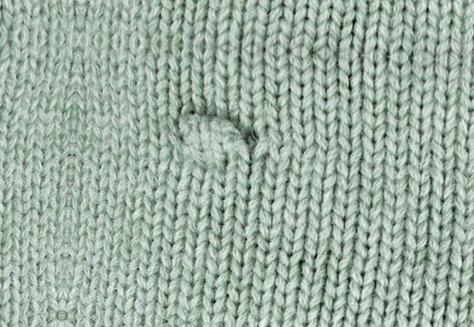knot: (174, 109, 254, 168)
